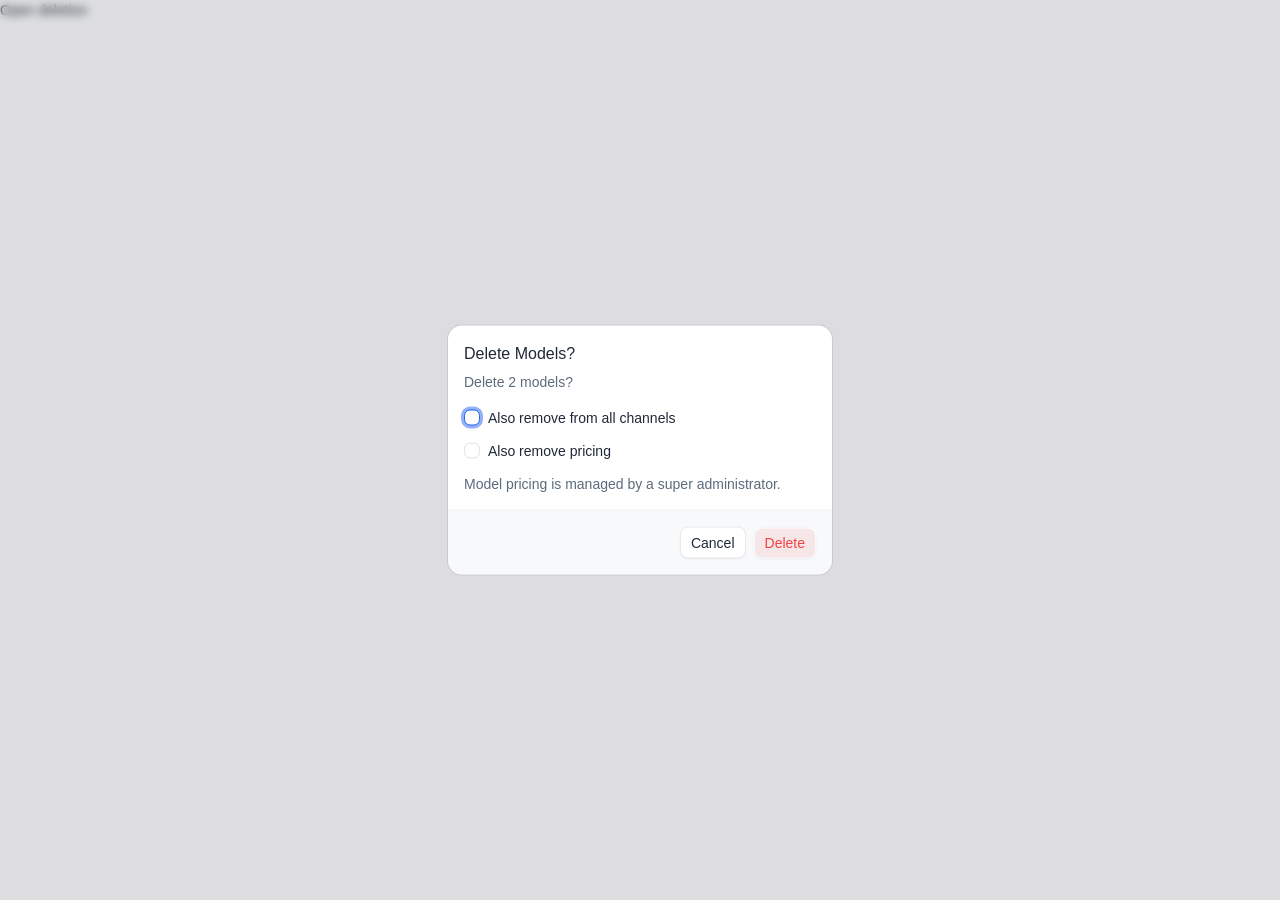
Test: surfaces referenced lanes and a routing link when model removal is blocked
Click the checkbox named "Also remove from all channels" next to "Also remove from all channels".
click(472, 418)  # box [464,410,480,426]
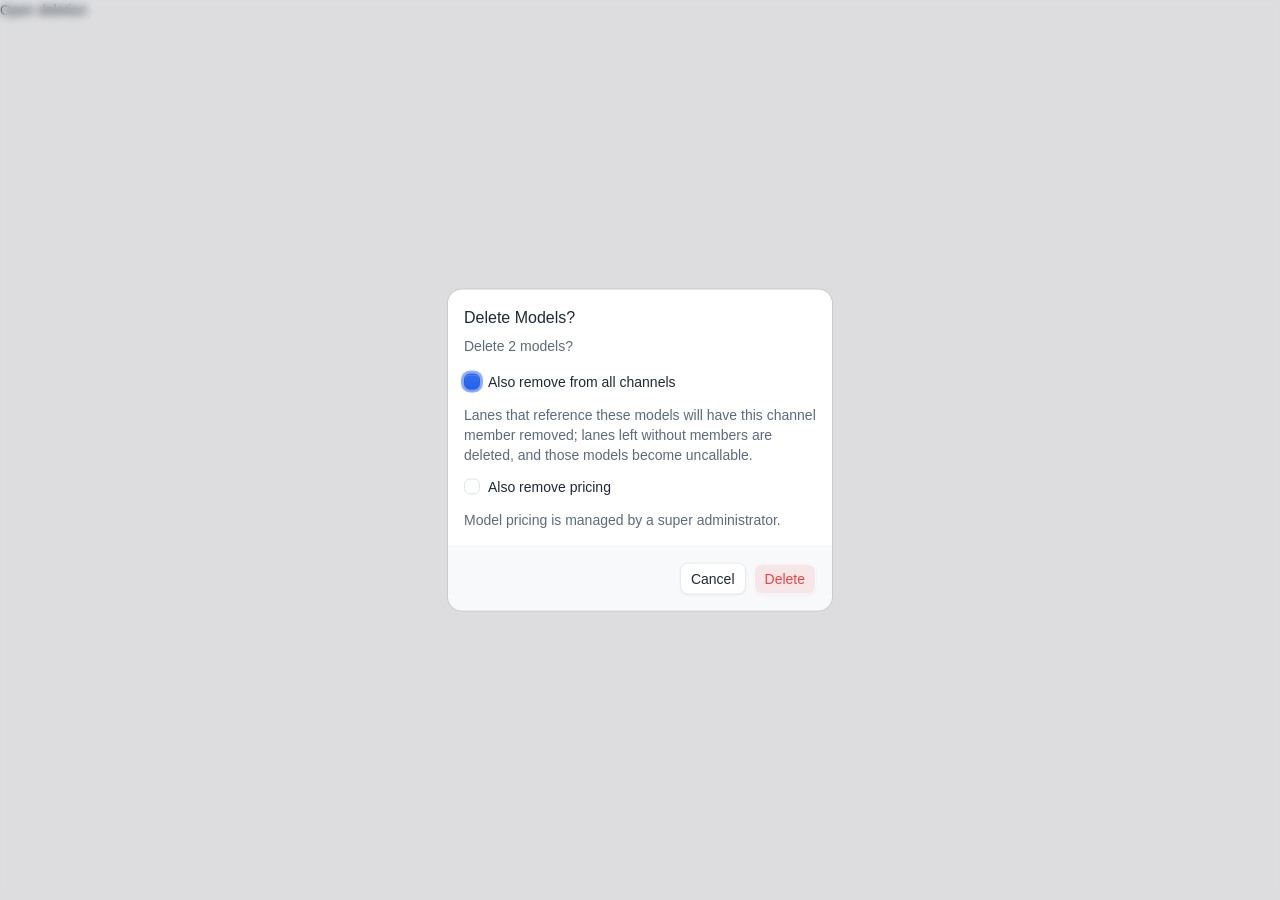
Click the button "Delete".
click(785, 578)  # box [754,562,816,594]
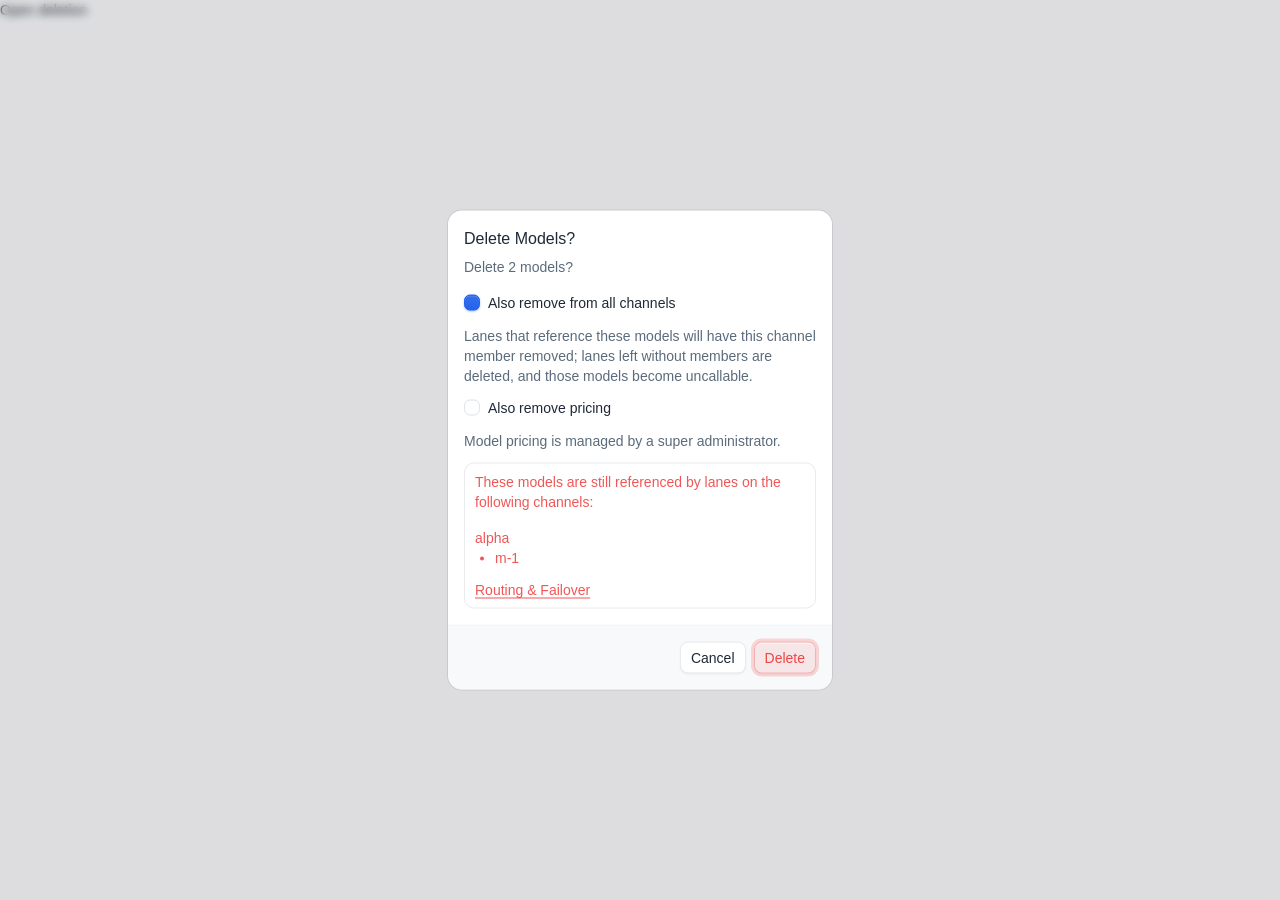
Expected: the text "alpha" is shown, [475,530,509,546]
Expected: the list item "m-1" is shown, [495,550,519,566]
